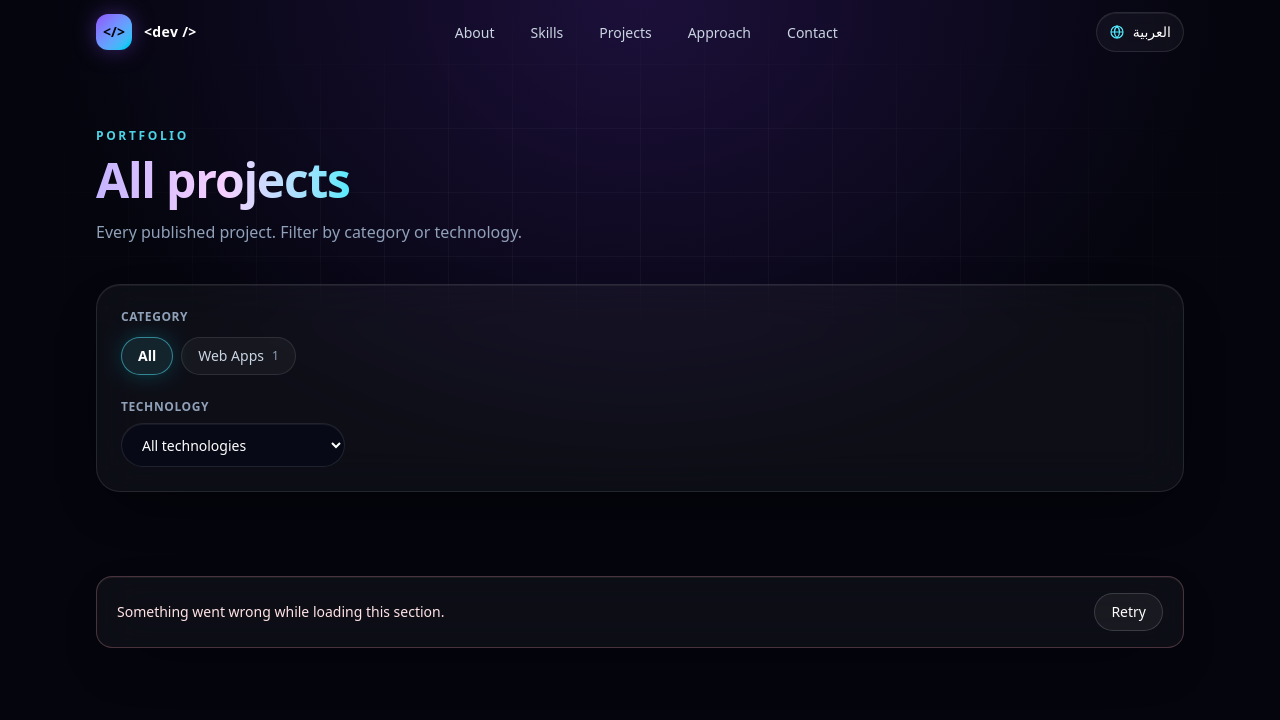
Projects page — list › shows an error with retry and recovers
Expected: the message "Something went wrong while loading this section. Retry" is shown, [96,576,1184,648]
What coordinates should you click on to do the following:
click the button "Retry"
I would click on:
 (1129, 612)
Its box is [1094,593,1163,631].
(page scrolled)
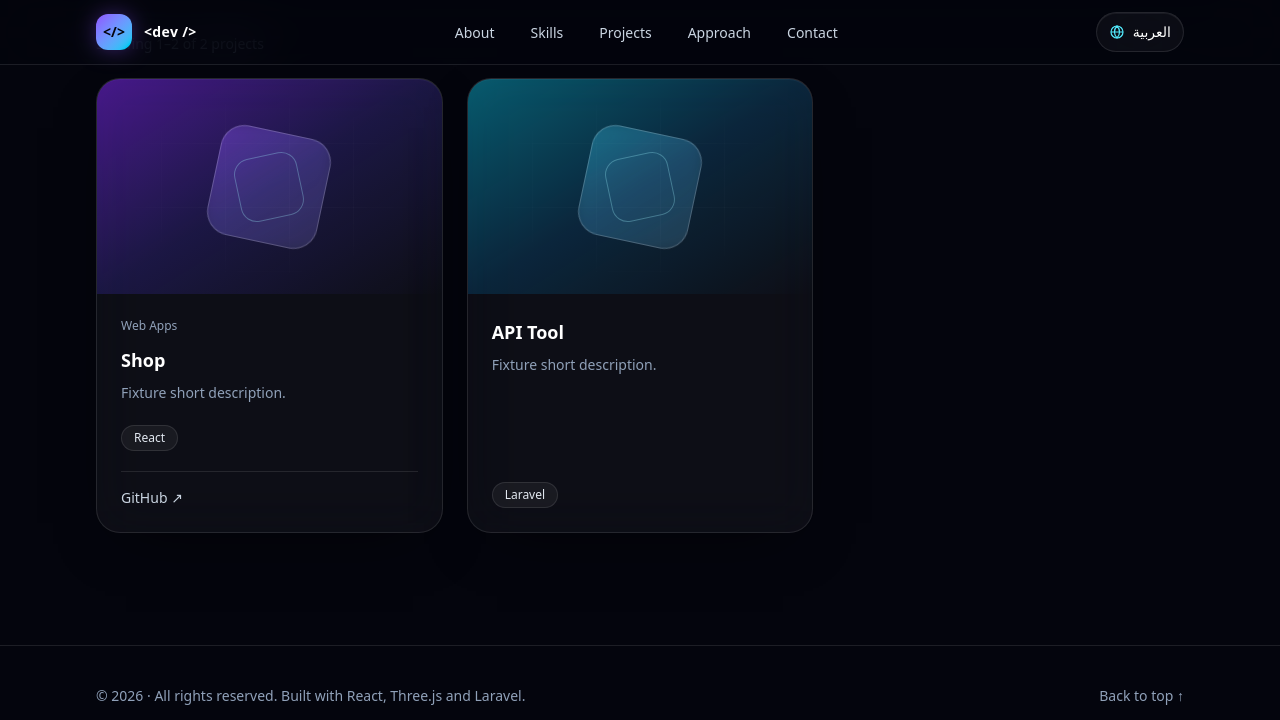
Expected: the link "Shop" is shown, [121,348,165,372]
